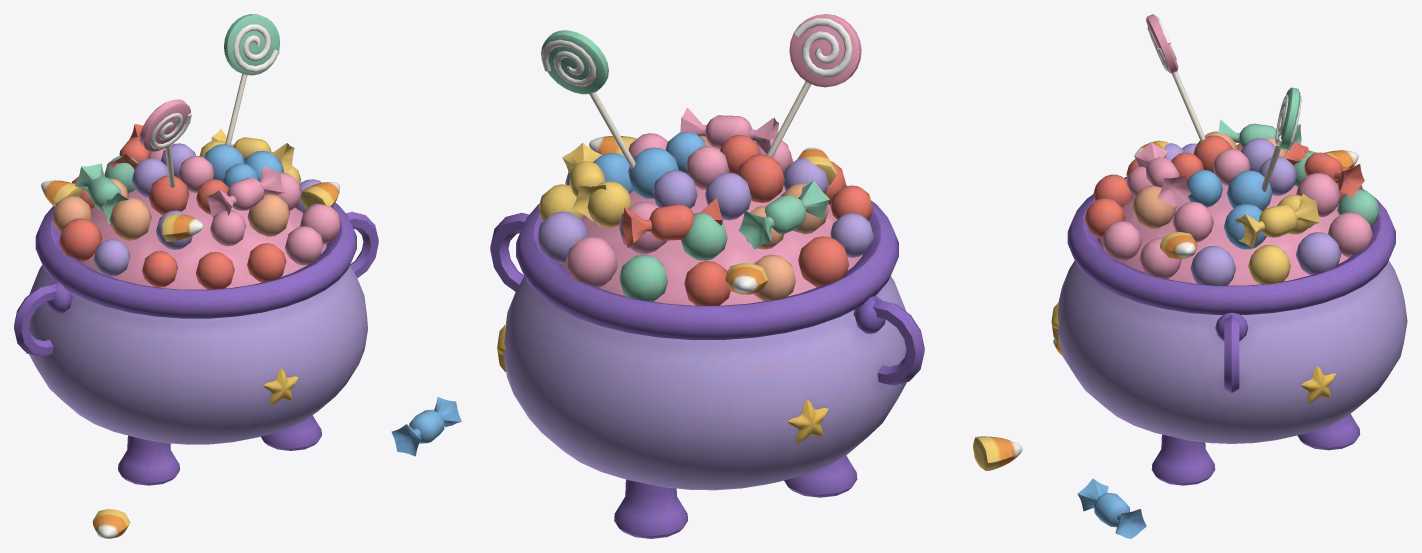
File: caldero_caramelos.glb
3 views of the same model, side by side, from view 1: azimuth 30°, elevation 25°; view 2: azimuth 150°, elevation 25°; view 3: azimuth 270°, elevation 25° (orthographic). The views are drawn at different scales.
Visible parts, largest first — view 1: candy-bowl_body; view 2: candy-bowl_body; view 3: candy-bowl_body.
Part boxes in pixels (bbox=[...]): candy-bowl_body: bbox=[14, 14, 461, 538]; candy-bowl_body: bbox=[490, 14, 1022, 538]; candy-bowl_body: bbox=[1051, 14, 1407, 538].
Bounding box in the file's own units: 0.5007 × 0.4672 × 0.3869.
1 material, 1 textured.
